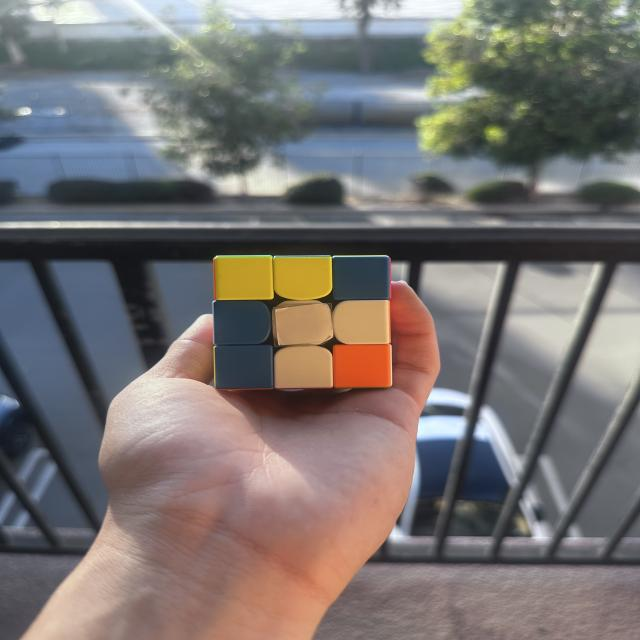sticker: (210, 344, 275, 392), (330, 254, 393, 303), (329, 298, 392, 347), (212, 255, 276, 302), (270, 255, 334, 302), (332, 343, 394, 390), (211, 300, 272, 347), (273, 345, 334, 390), (274, 302, 329, 344)
